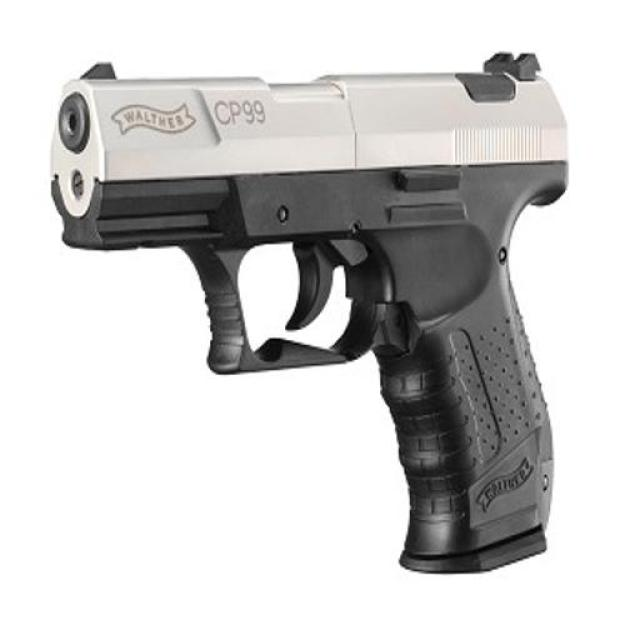pistol: (49, 51, 571, 577)
